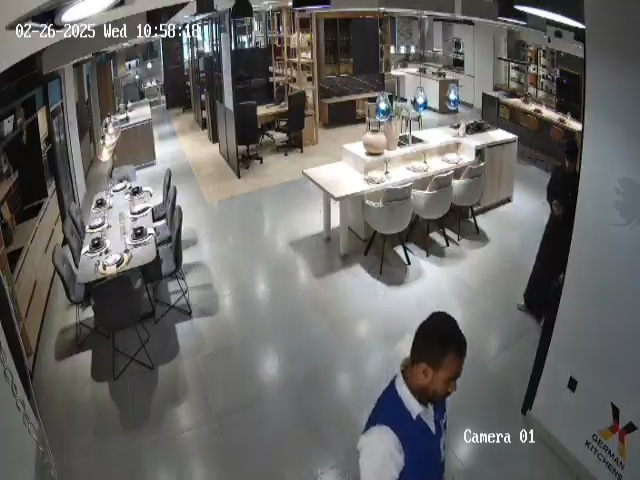employee: (356, 311, 468, 480)
male: (516, 139, 579, 326)
